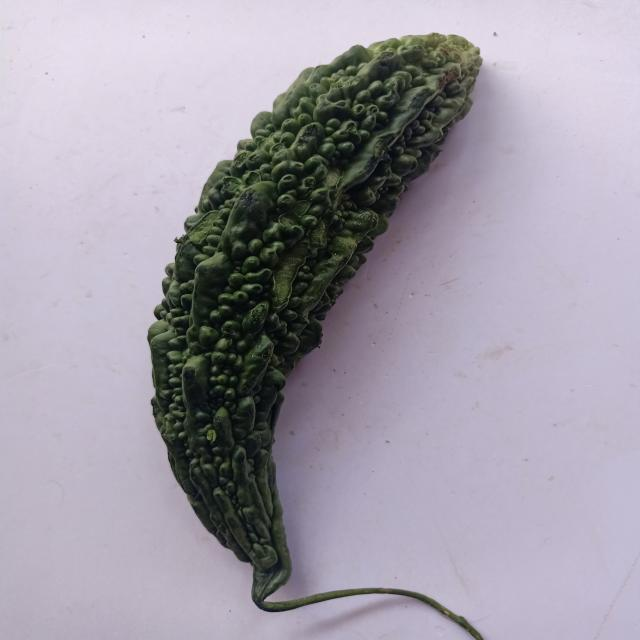Bitter Gourd: (128, 11, 639, 640)
